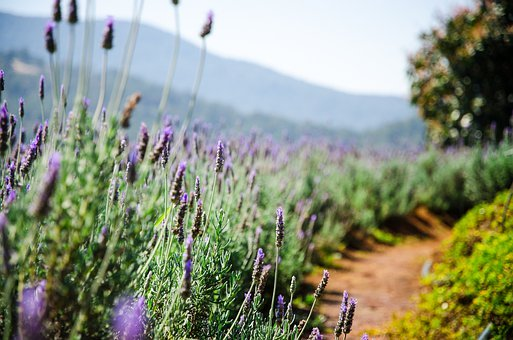flower: (16, 24, 301, 329)
